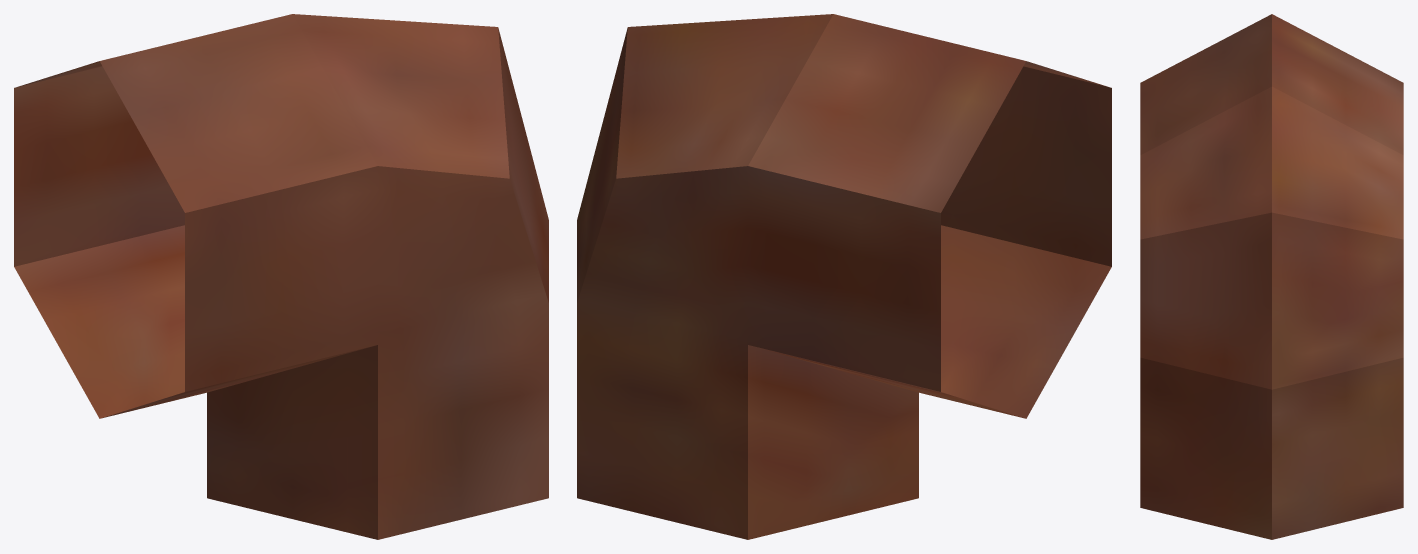
The model's file is MESH_PIPE_MEDIUM_2.fbx.
The picture shows the model from 3 angles, left to right: view 1: azimuth 30°, elevation 25°; view 2: azimuth 150°, elevation 25°; view 3: azimuth 270°, elevation 25°; orthographic projection. The views are drawn at different scales.
Parts seen in each view (by area): view 1: MESH_PIPE_MEDIUM_2; view 2: MESH_PIPE_MEDIUM_2; view 3: MESH_PIPE_MEDIUM_2.
Part boxes in pixels (x1,y1,x2,y2): MESH_PIPE_MEDIUM_2: [14, 14, 548, 539]; MESH_PIPE_MEDIUM_2: [577, 14, 1111, 539]; MESH_PIPE_MEDIUM_2: [1140, 14, 1403, 539].
Size of the model in its own units: 0.3339 by 0.3291 by 0.2201.
